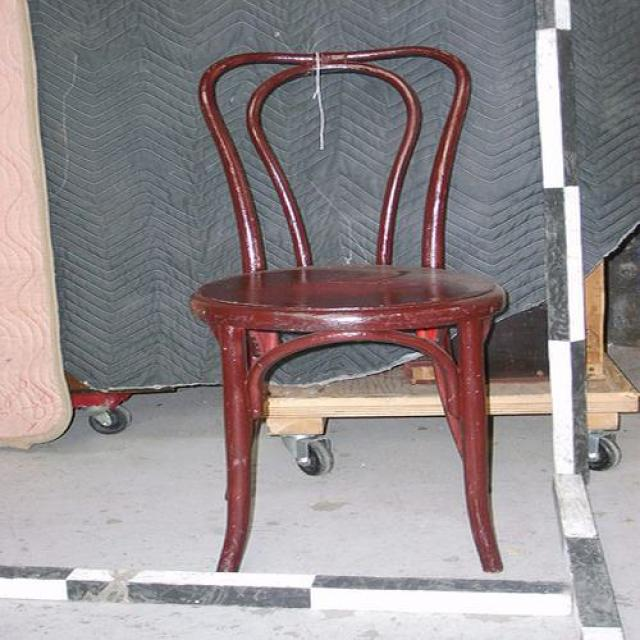chair: (189, 47, 511, 576)
